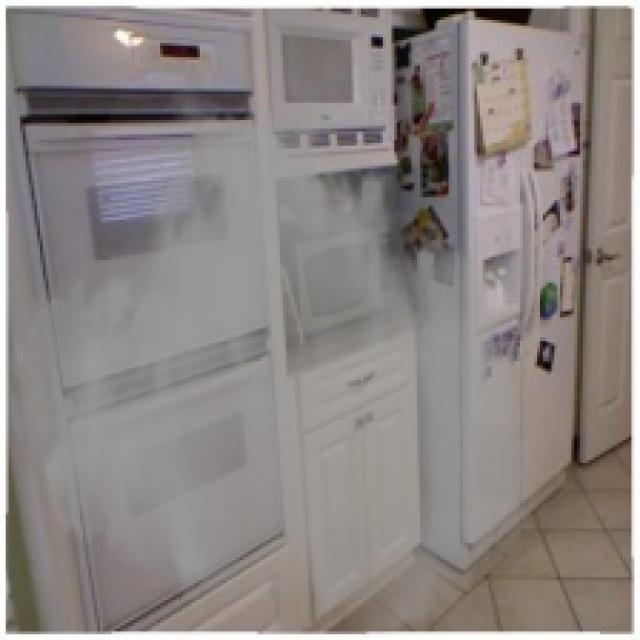Smoke: (3, 80, 546, 637)
